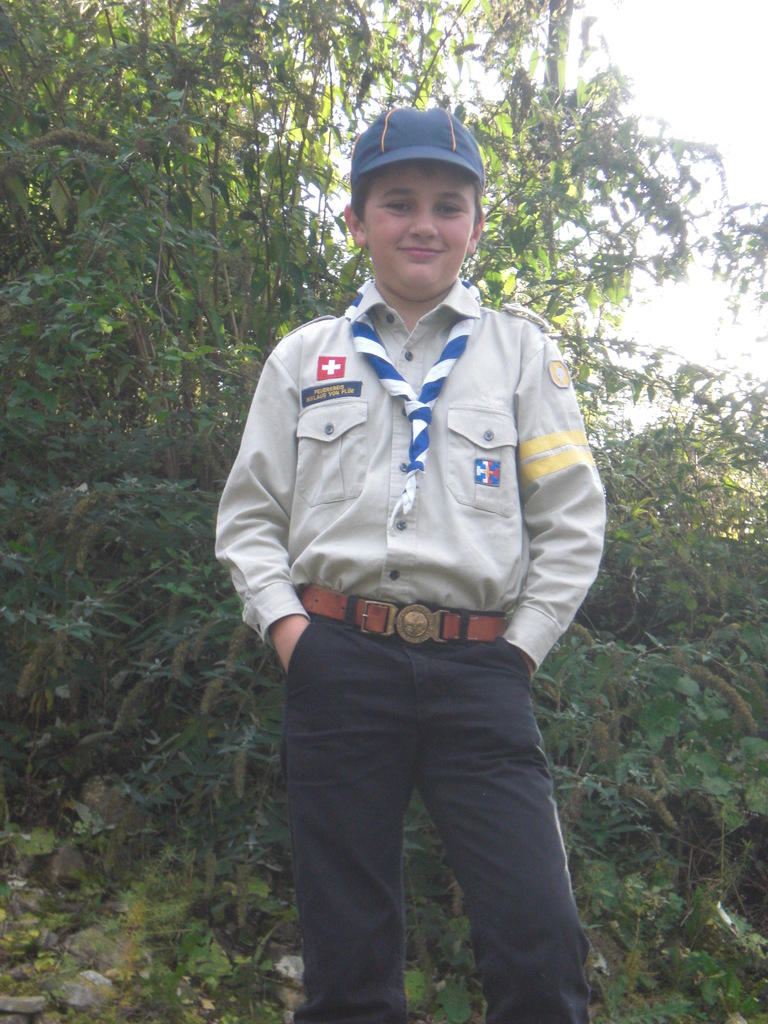Person: (214, 107, 606, 1024)
